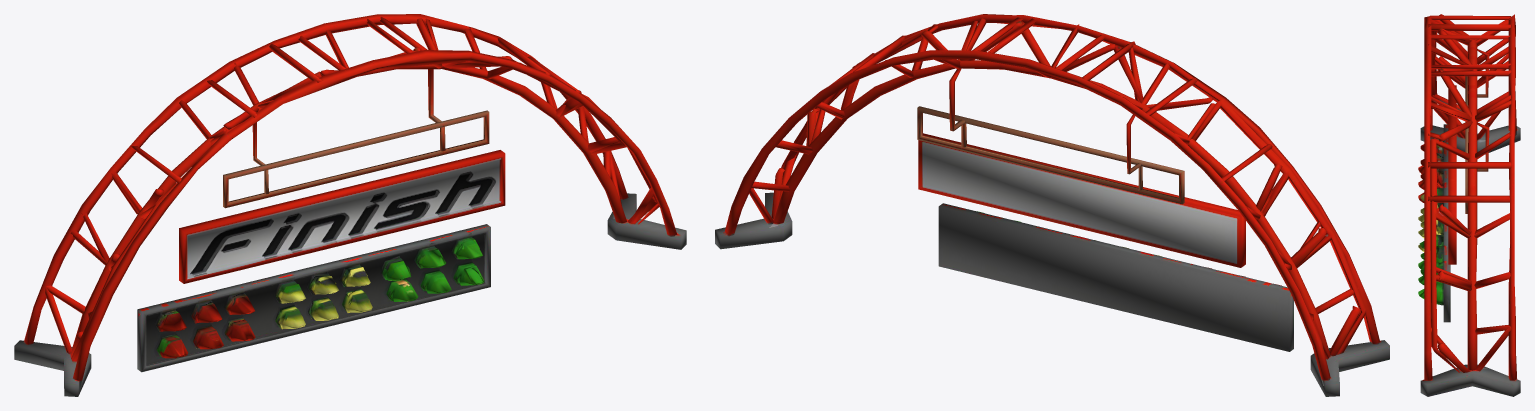
Rendered from selected.glb.
The picture shows the model from 3 angles, left to right: view 1: azimuth 30°, elevation 25°; view 2: azimuth 150°, elevation 25°; view 3: azimuth 270°, elevation 25°; orthographic projection. The views are drawn at different scales.
Parts seen in each view (by area): view 1: tripo_node_6a5e363d-a55f-430c-8ba0-75d94c87417c; view 2: tripo_node_6a5e363d-a55f-430c-8ba0-75d94c87417c; view 3: tripo_node_6a5e363d-a55f-430c-8ba0-75d94c87417c.
Boxes of the visible parts, <box> form: tripo_node_6a5e363d-a55f-430c-8ba0-75d94c87417c: <box>14,14,686,396</box>; tripo_node_6a5e363d-a55f-430c-8ba0-75d94c87417c: <box>715,14,1389,396</box>; tripo_node_6a5e363d-a55f-430c-8ba0-75d94c87417c: <box>1418,14,1520,396</box>.
Size of the model in its own units: 0.998 by 0.4043 by 0.166.
1 material, 1 textured.
